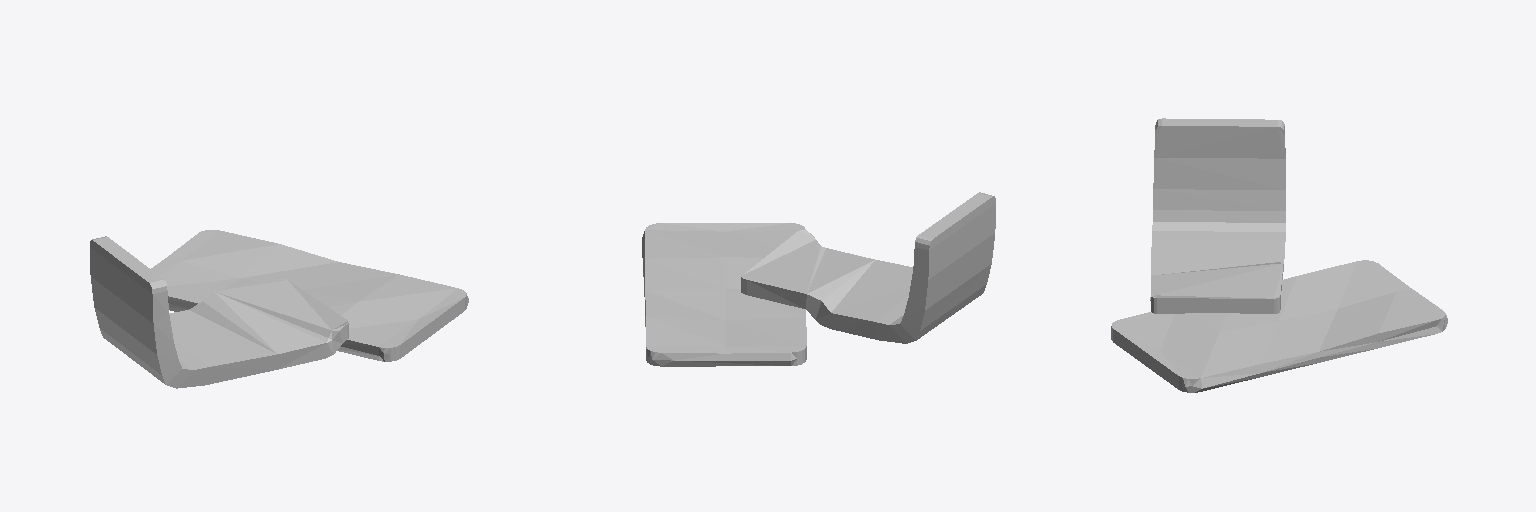
The model's file is Matress_b.obj.
3 renders of one model, left to right at view 1: azimuth 30°, elevation 25°; view 2: azimuth 150°, elevation 25°; view 3: azimuth 270°, elevation 25°, orthographic.
Visible parts, largest first — view 1: Matress_b_LOD0_Bed03_LOD0.002; view 2: Matress_b_LOD0_Bed03_LOD0.002; view 3: Matress_b_LOD0_Bed03_LOD0.002.
Part boxes in pixels (x1,y1,x2,y2): Matress_b_LOD0_Bed03_LOD0.002: (90, 230, 468, 388); Matress_b_LOD0_Bed03_LOD0.002: (642, 192, 995, 366); Matress_b_LOD0_Bed03_LOD0.002: (1111, 118, 1447, 392).
Size of the model in its own units: 2.52 by 0.8208 by 2.22.